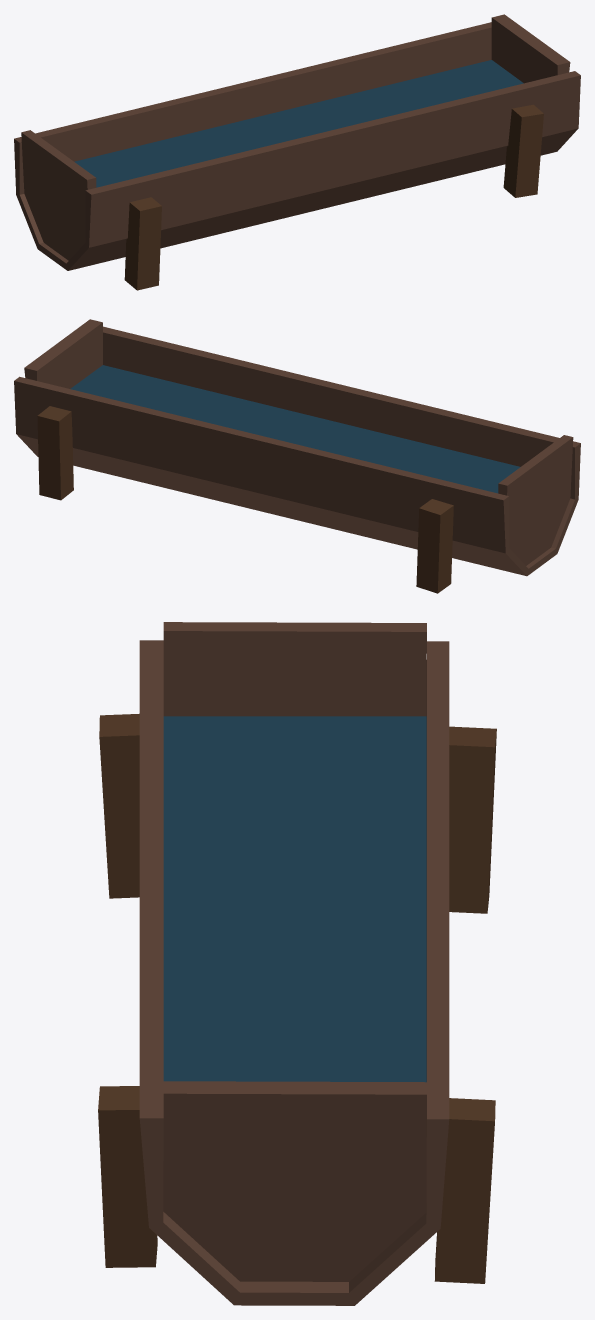
The model's file is Trough.glb.
3 renders of one model, top to bottom at view 1: azimuth 30°, elevation 25°; view 2: azimuth 150°, elevation 25°; view 3: azimuth 270°, elevation 25°, orthographic. The views are drawn at different scales.
Visible parts, largest first — view 1: Trough; view 2: Trough; view 3: Trough.
Part boxes in pixels (x1,y1,x2,y2): Trough: [14, 14, 580, 290]; Trough: [14, 319, 580, 593]; Trough: [98, 622, 496, 1305].
Size of what is drawn, in the model's own units: 2.12 by 0.4554 by 0.7471.
Materials: 1 (1 with a texture image).
